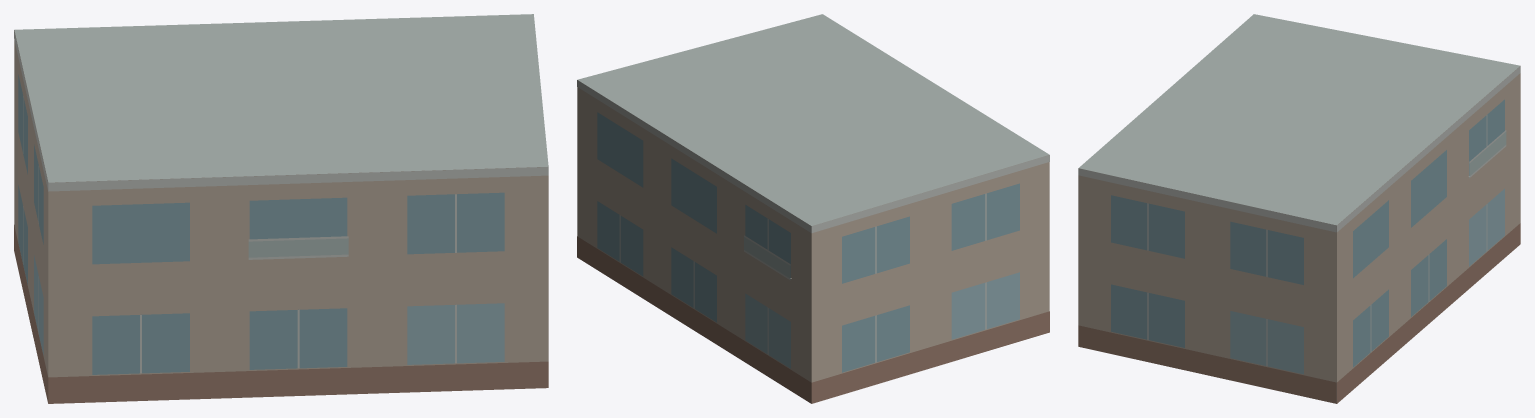
File: survey-upis-32890044.glb
3 views of the same model, side by side, from view 1: azimuth 30°, elevation 25°; view 2: azimuth 150°, elevation 25°; view 3: azimuth 270°, elevation 25° (orthographic). The views are drawn at different scales.
Visible parts, largest first — view 1: survey-upis-32890044.tmp; view 2: survey-upis-32890044.tmp; view 3: survey-upis-32890044.tmp.
Part boxes in pixels (bbox=[...]): survey-upis-32890044.tmp: bbox=[14, 14, 548, 403]; survey-upis-32890044.tmp: bbox=[577, 14, 1049, 403]; survey-upis-32890044.tmp: bbox=[1078, 14, 1520, 403].
Bounding box in the file's own units: 15.5 × 6.1 × 13.71.
